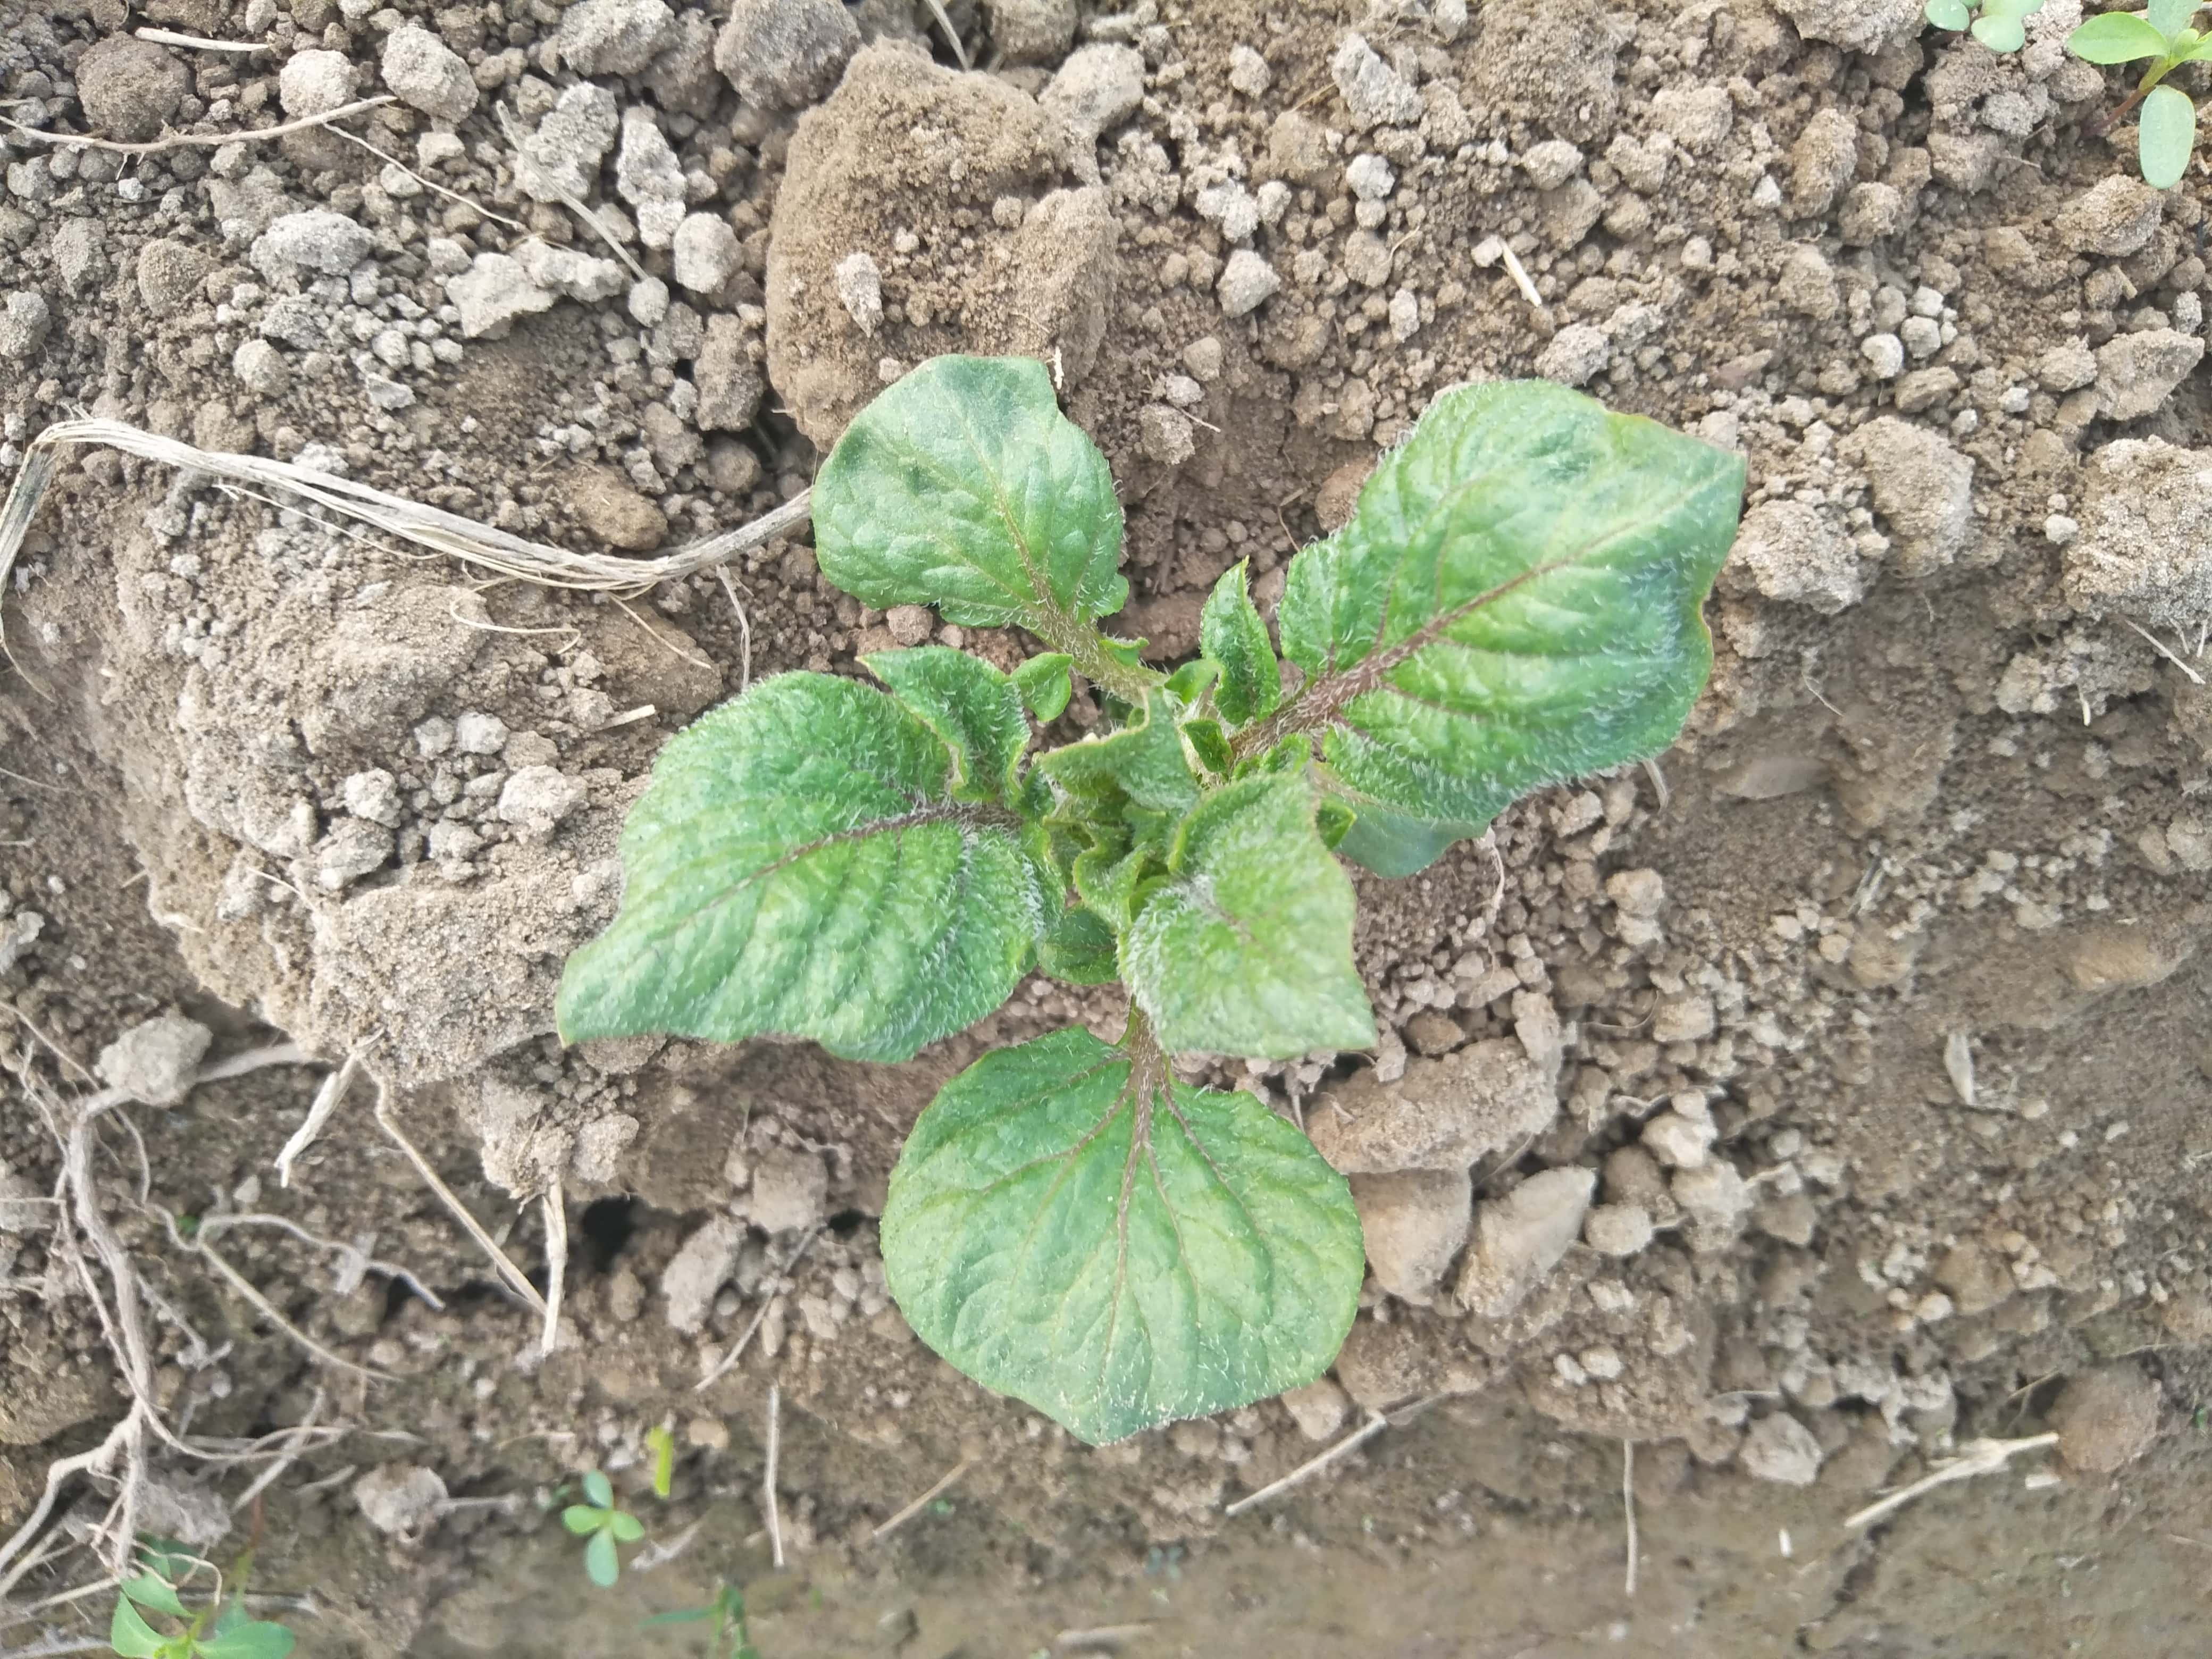daun: (1268, 380, 1737, 866), (900, 1021, 1353, 1424), (571, 704, 1017, 1033), (1096, 782, 1393, 1065), (808, 369, 1125, 634), (859, 638, 1029, 786), (1188, 572, 1280, 751), (1076, 803, 1153, 929)
